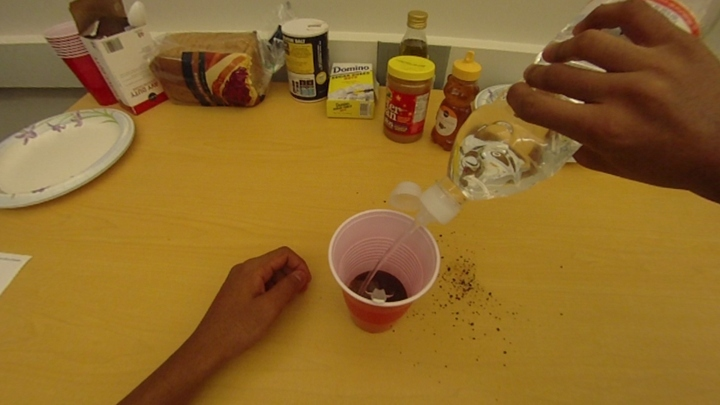hand: (498, 1, 718, 220), (215, 246, 313, 368)
